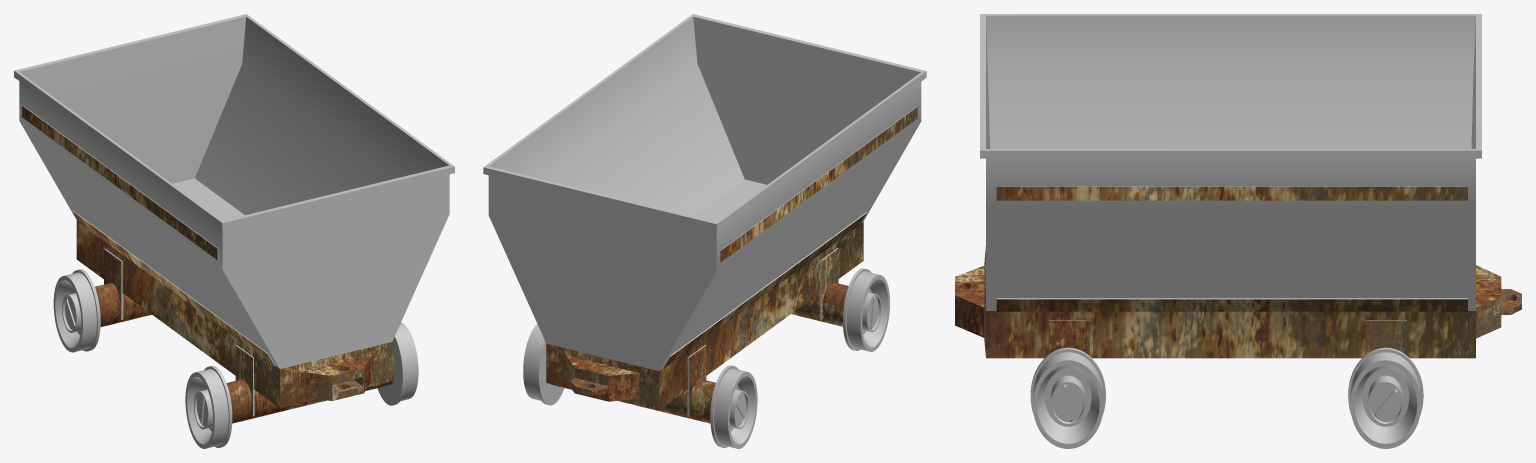
Rendered from vagonetka-1.fbx.
3 views of the same model, side by side, from view 1: azimuth 30°, elevation 25°; view 2: azimuth 150°, elevation 25°; view 3: azimuth 270°, elevation 25° (orthographic). The views are drawn at different scales.
Visible parts, largest first — view 1: vagonetka; view 2: vagonetka; view 3: vagonetka.
Part boxes in pixels (bbox=[...]): vagonetka: bbox=[14, 14, 454, 448]; vagonetka: bbox=[483, 14, 926, 448]; vagonetka: bbox=[955, 14, 1521, 448].
Bounding box in the file's own units: 124 × 131 × 218.
